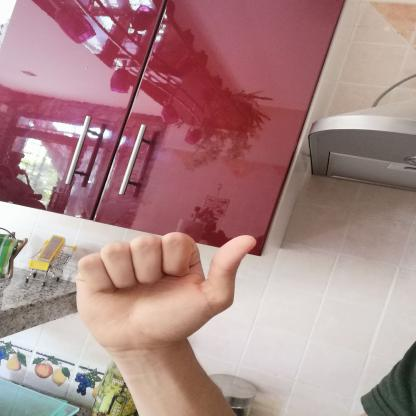DAD: (62, 221, 269, 365)
